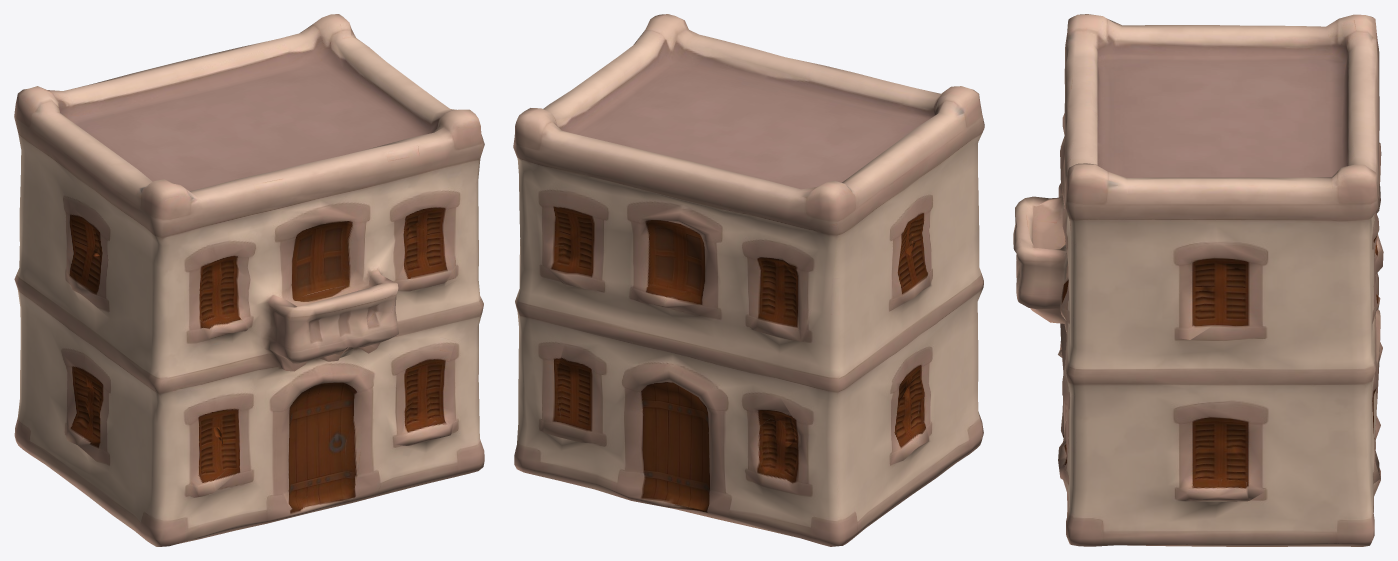
The model's file is house_base_tripo.glb.
3 views of the same model, side by side, from view 1: azimuth 30°, elevation 25°; view 2: azimuth 150°, elevation 25°; view 3: azimuth 270°, elevation 25° (orthographic). The views are drawn at different scales.
Parts seen in each view (by area): view 1: tripo_node_6b2dd6d1-2888-4cba-8b34-568d721a4163; view 2: tripo_node_6b2dd6d1-2888-4cba-8b34-568d721a4163; view 3: tripo_node_6b2dd6d1-2888-4cba-8b34-568d721a4163.
Part boxes in pixels (x1=…): tripo_node_6b2dd6d1-2888-4cba-8b34-568d721a4163: x1=14, y1=14, x2=484, y2=546; tripo_node_6b2dd6d1-2888-4cba-8b34-568d721a4163: x1=513, y1=14, x2=984, y2=546; tripo_node_6b2dd6d1-2888-4cba-8b34-568d721a4163: x1=1013, y1=14, x2=1383, y2=546.
Bounding box in the file's own units: 0.9781 × 0.9719 × 0.8725.
Materials: 1 (1 with a texture image).
